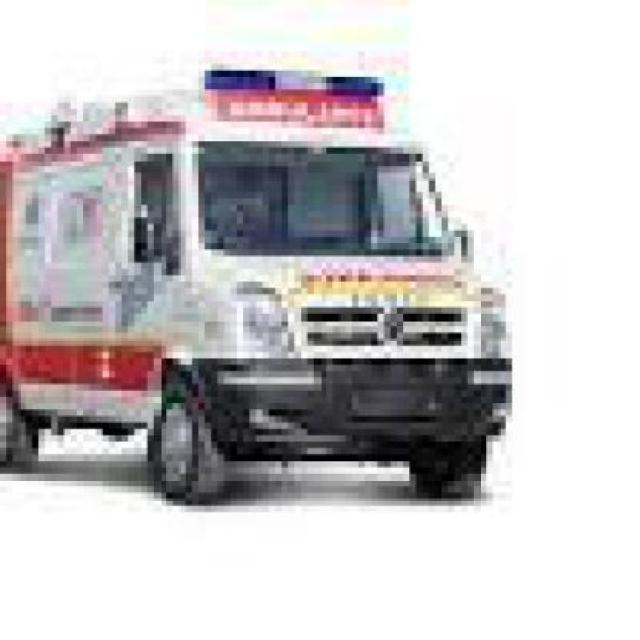Ambulance: (0, 63, 517, 508)
